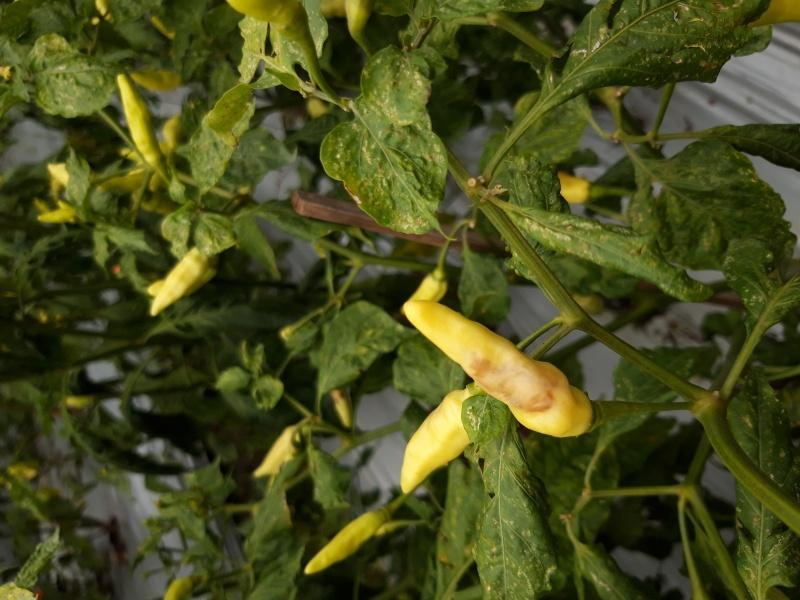antraknosa: (406, 302, 593, 438)
cabai_normal: (398, 390, 483, 499), (304, 508, 386, 577), (114, 70, 158, 168), (154, 245, 212, 312)
